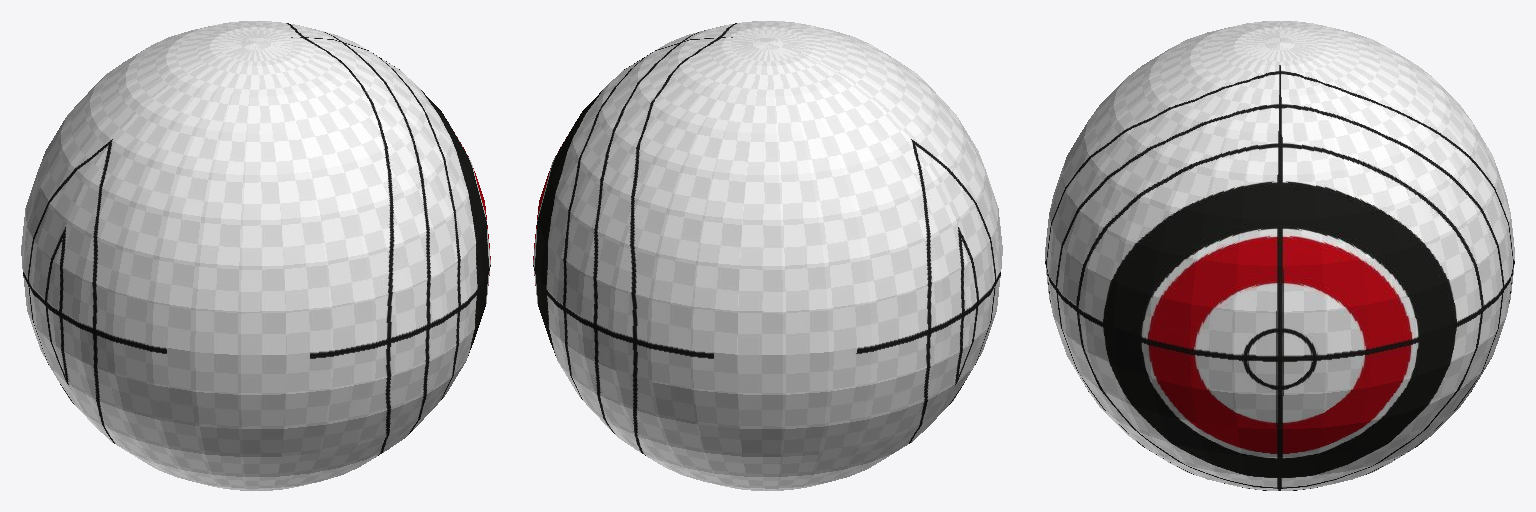
3 renders of one model, left to right at view 1: azimuth 30°, elevation 25°; view 2: azimuth 150°, elevation 25°; view 3: azimuth 270°, elevation 25°, orthographic.
Parts seen in each view (by area): view 1: Sphere; view 2: Sphere; view 3: Sphere.
Boxes of the visible parts, x1=… form: Sphere: x1=21, y1=21, x2=490, y2=490; Sphere: x1=533, y1=21, x2=1002, y2=490; Sphere: x1=1045, y1=21, x2=1514, y2=490.
Size of the model in its own units: 2 by 2 by 2.
Materials: 1 (1 with a texture image).